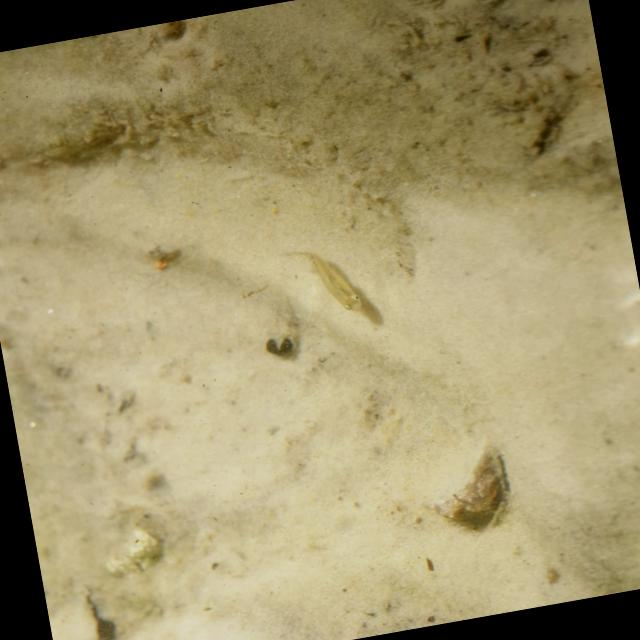Sivrisinek Baligi: (277, 237, 373, 328)
